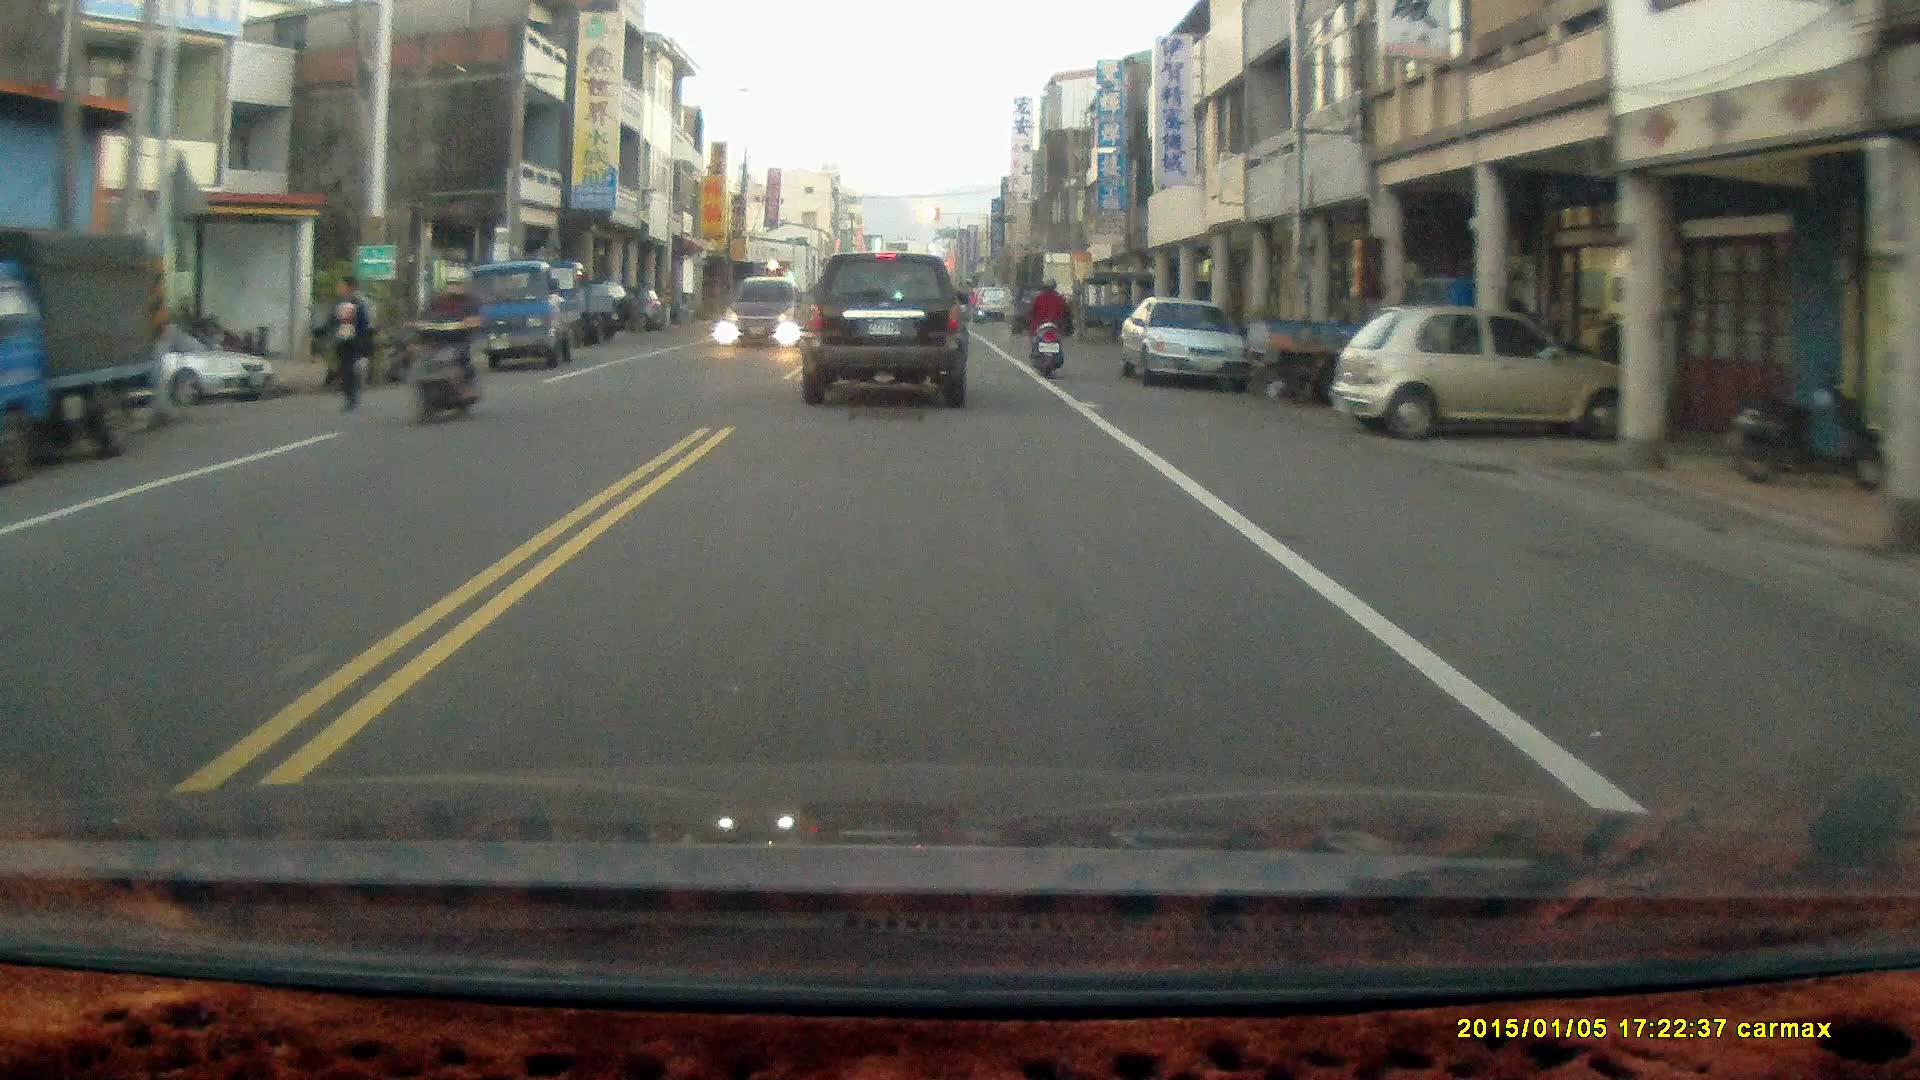pedestrian: (315, 273, 376, 415)
rider: (398, 259, 481, 431), (1026, 274, 1067, 376)
vehicle: (1, 226, 165, 487), (1340, 308, 1638, 445), (795, 251, 972, 414), (454, 265, 603, 375), (99, 317, 270, 404), (1121, 302, 1258, 391), (722, 276, 803, 349)
